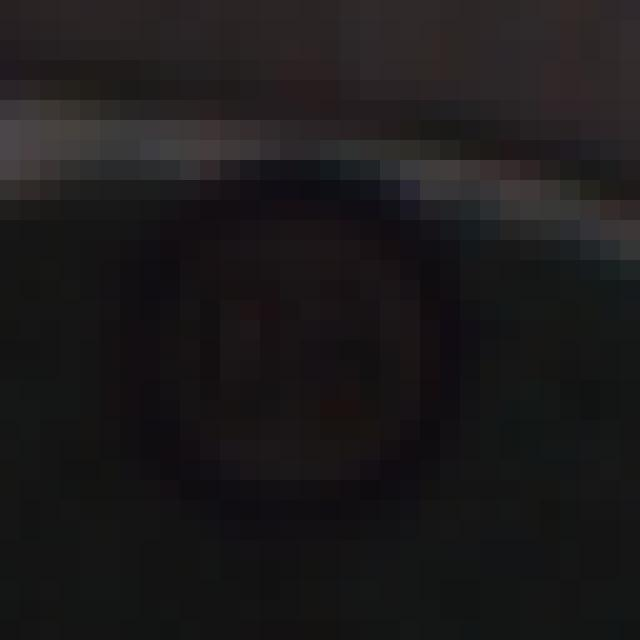SPEED-LIMIT-60: (119, 160, 444, 519)
